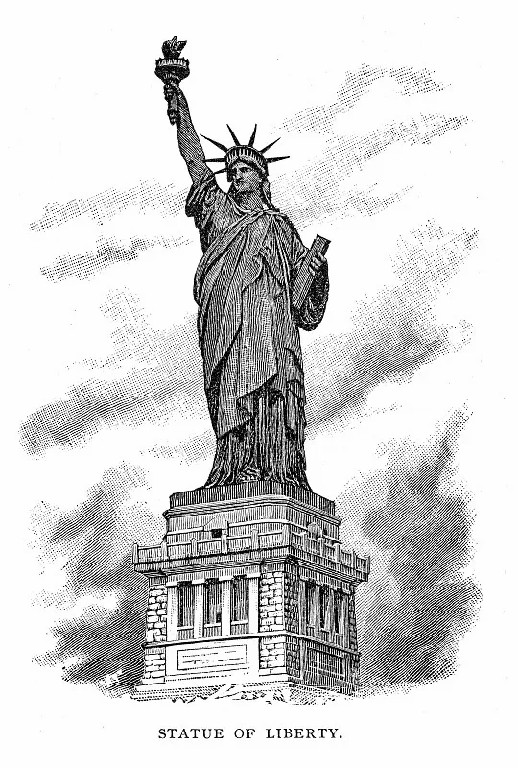SL: (130, 35, 369, 700)
